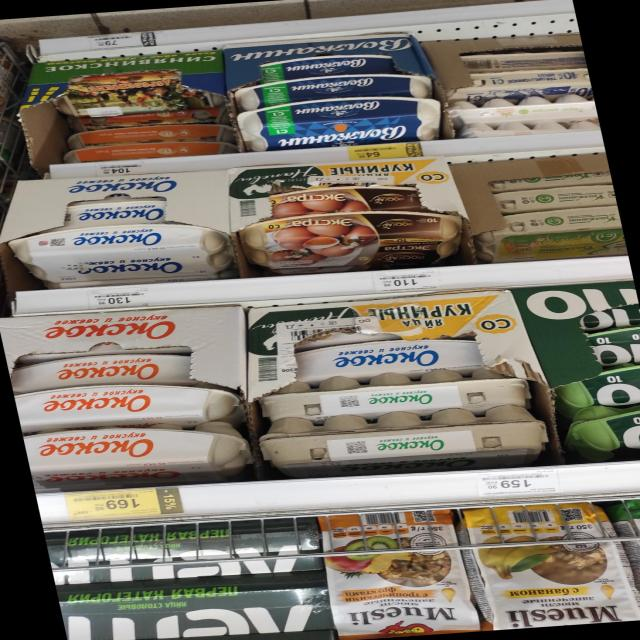organic waste: (453, 497, 639, 631), (258, 401, 554, 482), (311, 508, 484, 640), (249, 362, 538, 423), (8, 218, 239, 285), (238, 206, 470, 272), (292, 334, 486, 380), (559, 402, 640, 464), (550, 361, 639, 412), (62, 198, 172, 229), (616, 493, 640, 620), (585, 324, 639, 368), (581, 304, 639, 331)
